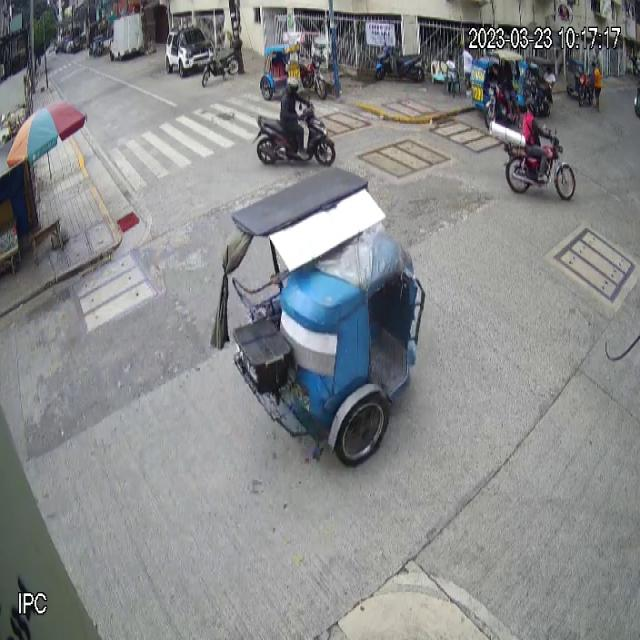Motorcycle: (251, 97, 336, 166), (503, 123, 575, 202)
Tricycle: (230, 164, 427, 466), (260, 30, 326, 104), (469, 50, 522, 128)
